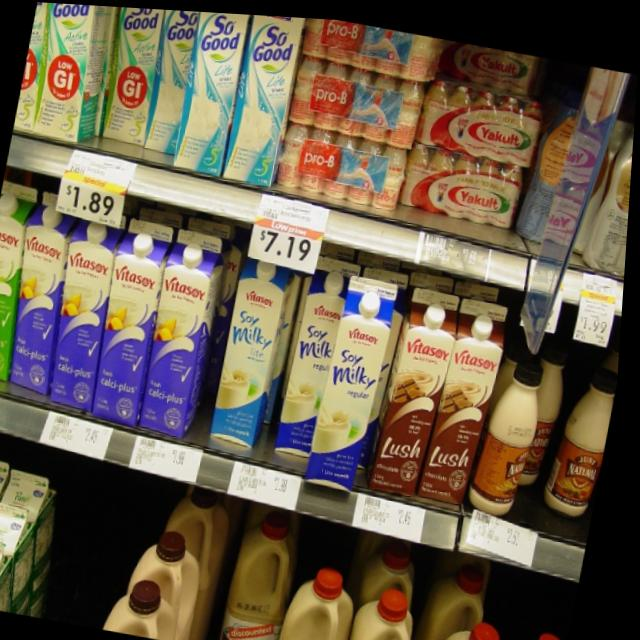q262: (227, 11, 308, 188), (172, 8, 251, 177)
